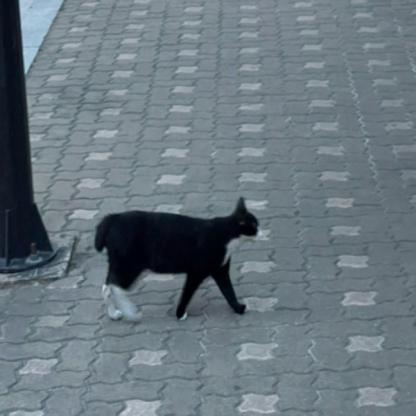cat: (94, 195, 268, 324)
